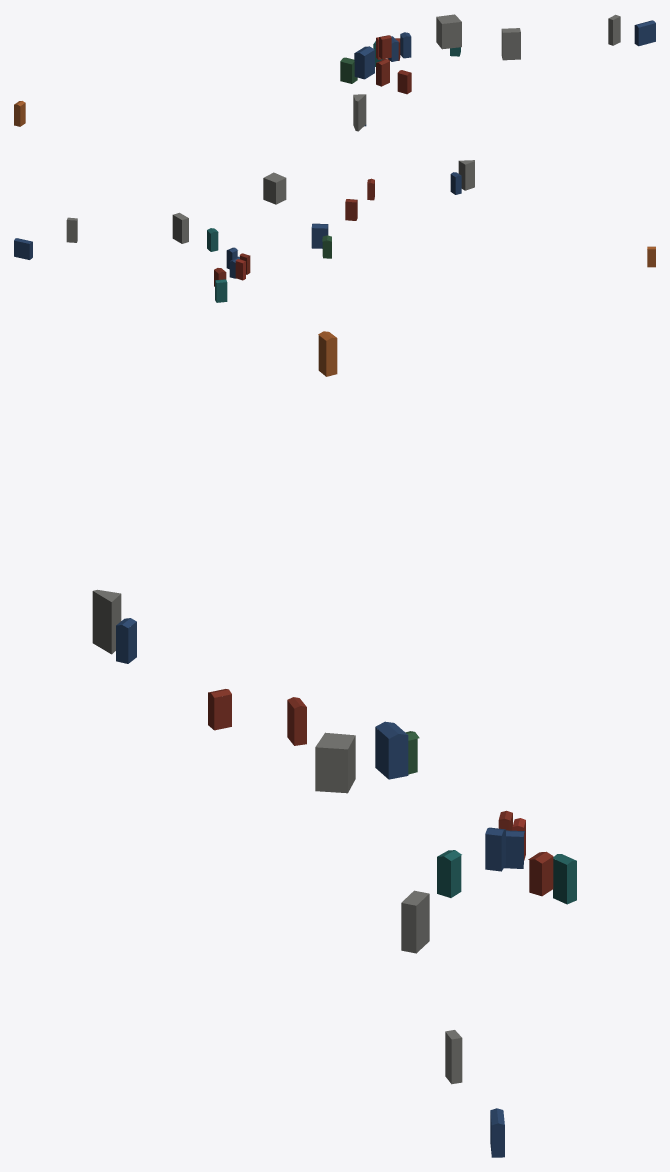
The model's file is near-15-27369-14858.9af94e91.glb.
The picture shows the model from 3 angles, top to bottom: view 1: azimuth 30°, elevation 25°; view 2: azimuth 150°, elevation 25°; view 3: azimuth 270°, elevation 25°; orthographic projection. The views are drawn at different scales.
Bounding box in the file's own units: 725 × 141 × 254.
